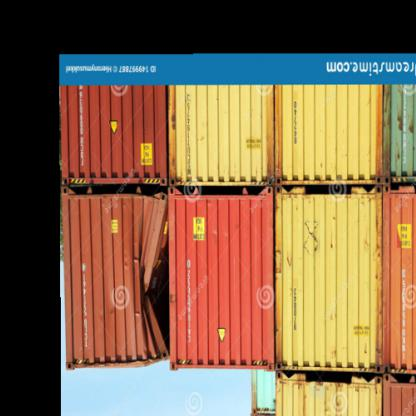Damage: (110, 192, 180, 370)
